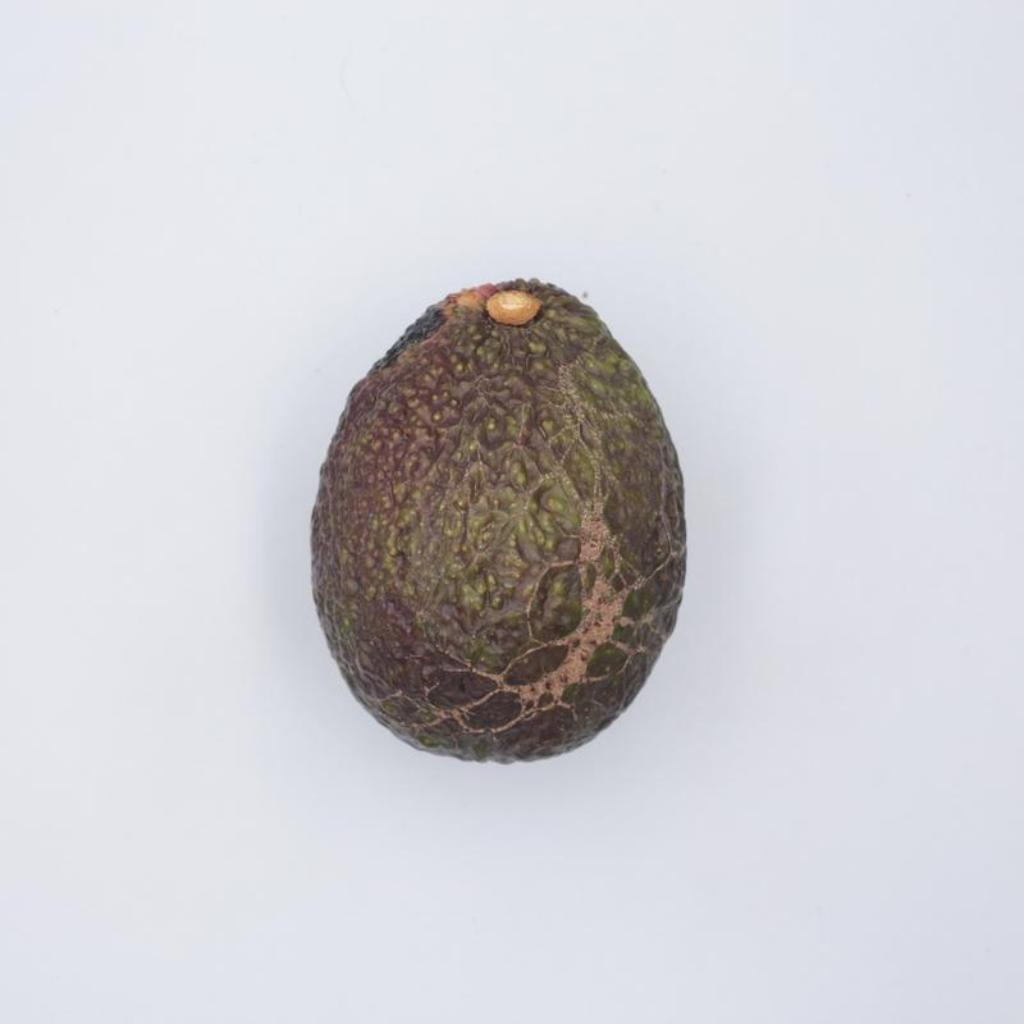scab: (312, 279, 686, 762)
